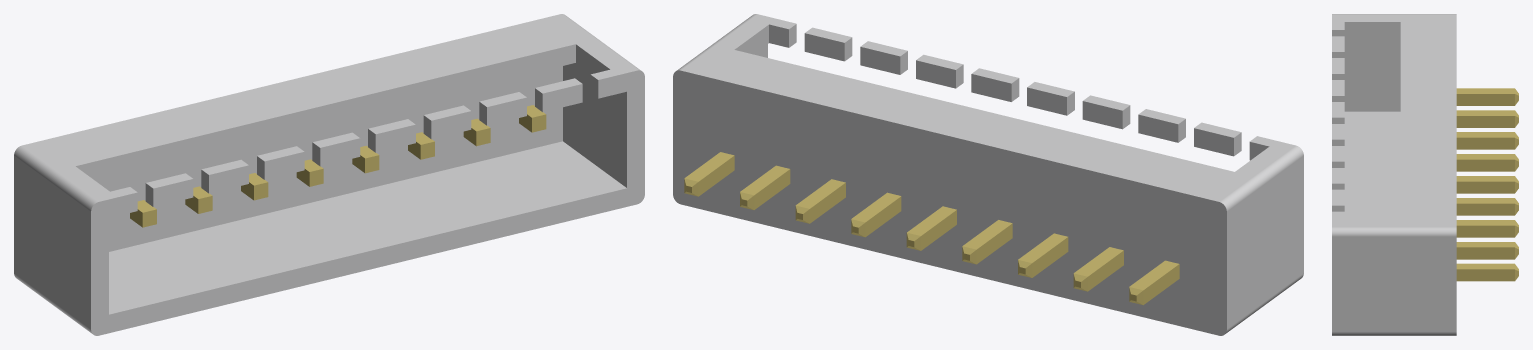
File: jst_xh_9pin.glb
The picture shows the model from 3 angles, left to right: view 1: azimuth 30°, elevation 25°; view 2: azimuth 150°, elevation 25°; view 3: azimuth 270°, elevation 25°; orthographic projection. The views are drawn at different scales.
Visible parts, largest first — view 1: world; view 2: world; view 3: world.
Part boxes in pixels (bbox=[...]): world: bbox=[14, 14, 644, 335]; world: bbox=[673, 14, 1303, 335]; world: bbox=[1332, 14, 1518, 335].
Size of the model in its own units: 24.9 by 5.75 by 9.
